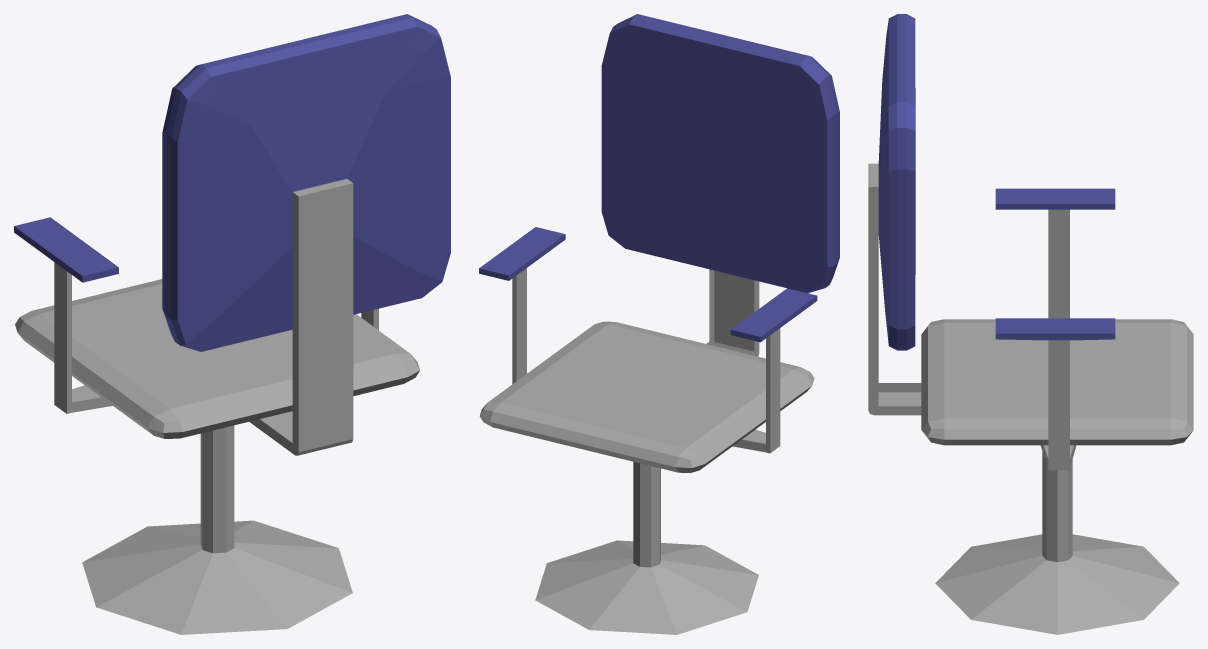
Rendered from chair1.fbx.
3 views of the same model, side by side, from view 1: azimuth 30°, elevation 25°; view 2: azimuth 150°, elevation 25°; view 3: azimuth 270°, elevation 25° (orthographic). The views are drawn at different scales.
Visible parts, largest first — view 1: Chair; view 2: Chair; view 3: Chair.
Boxes of the visible parts, x1,y1,x2,y2 form: Chair: (14, 14, 450, 634); Chair: (479, 14, 839, 634); Chair: (868, 14, 1193, 634).
Size of the model in its own units: 132 by 222 by 125.
